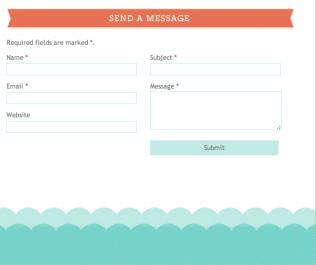button: (149, 139, 279, 156)
field: (149, 91, 282, 131), (6, 62, 138, 77), (5, 119, 136, 134), (148, 62, 281, 76), (4, 91, 137, 105)
field_with_label: (147, 82, 284, 133), (4, 54, 140, 79), (4, 111, 139, 136), (2, 83, 139, 107), (147, 54, 283, 77)
